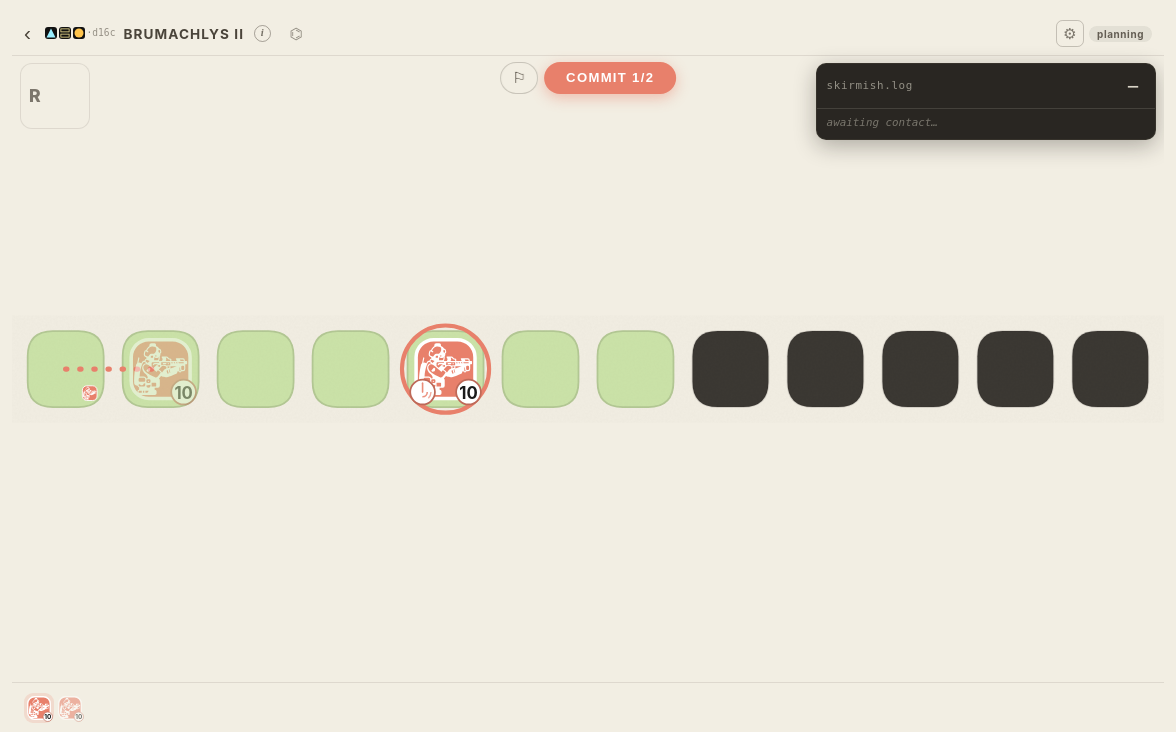
Test: TopCta in the battle screen (App integration) › commit with ≥1 order skips the confirm entirely
Step 1. Click the button with test id "commit-button" → [610, 78], box [544,62,676,94]
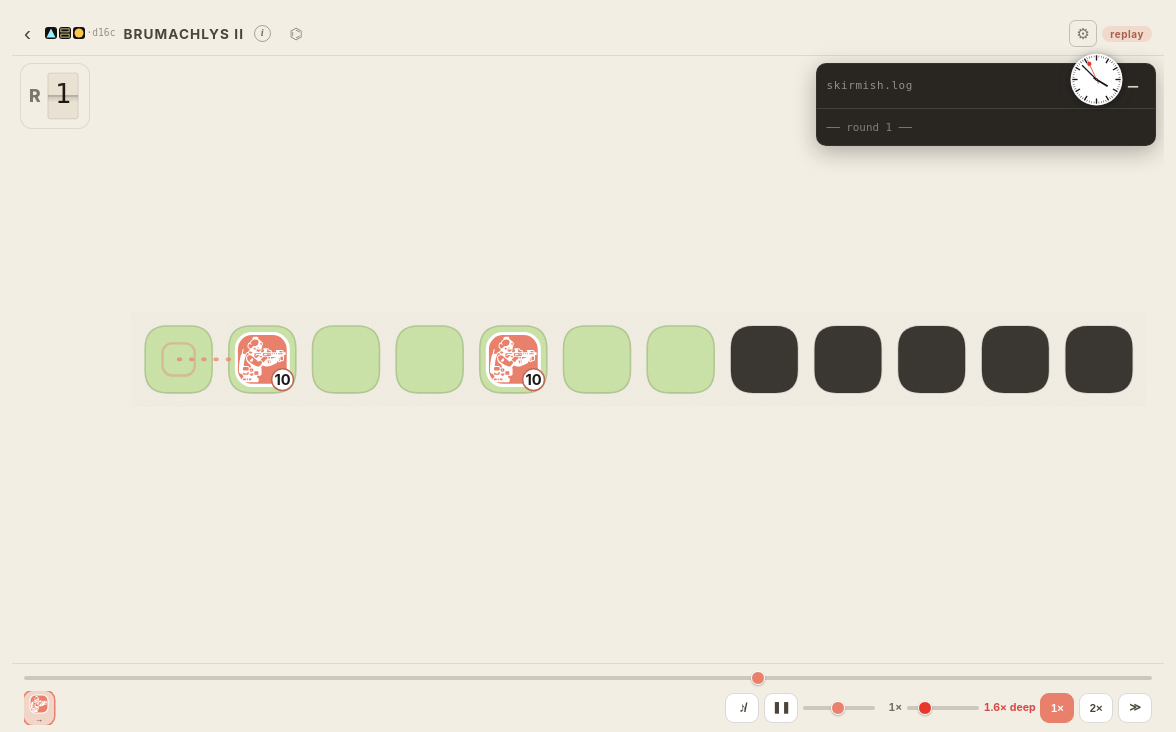
expect the text "replay" is shown: met, box [1102,26,1152,42]
